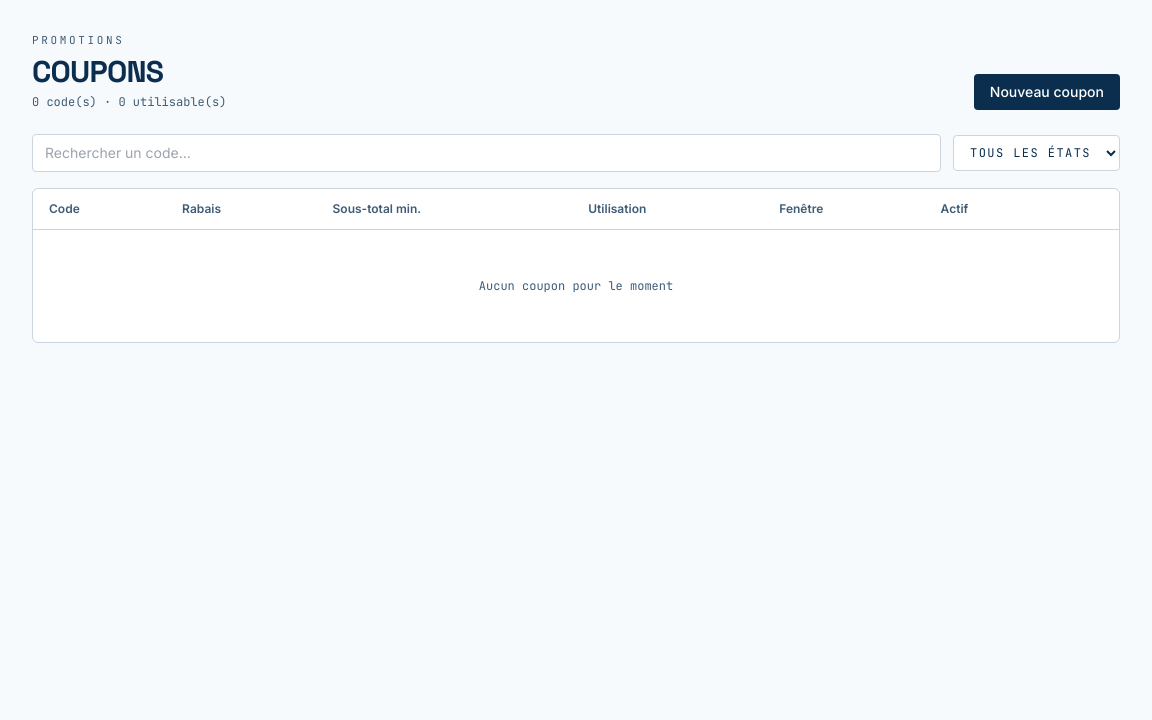
Test: la recherche retrouve un code
Step 1. Type "ete" into the field with test id "coupons-search" → coordinates (486, 153), box [32,134,941,172]
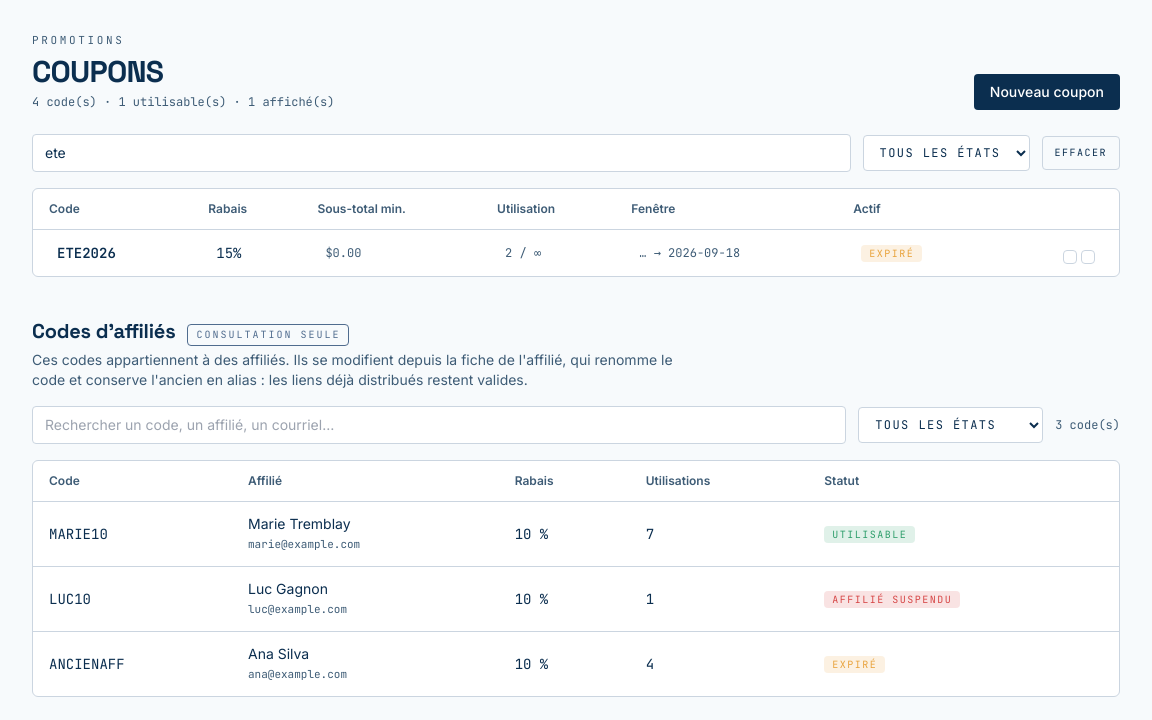
Result: the row with test id "coupon-row-ETE2026" is shown at [33,229,1119,276]
